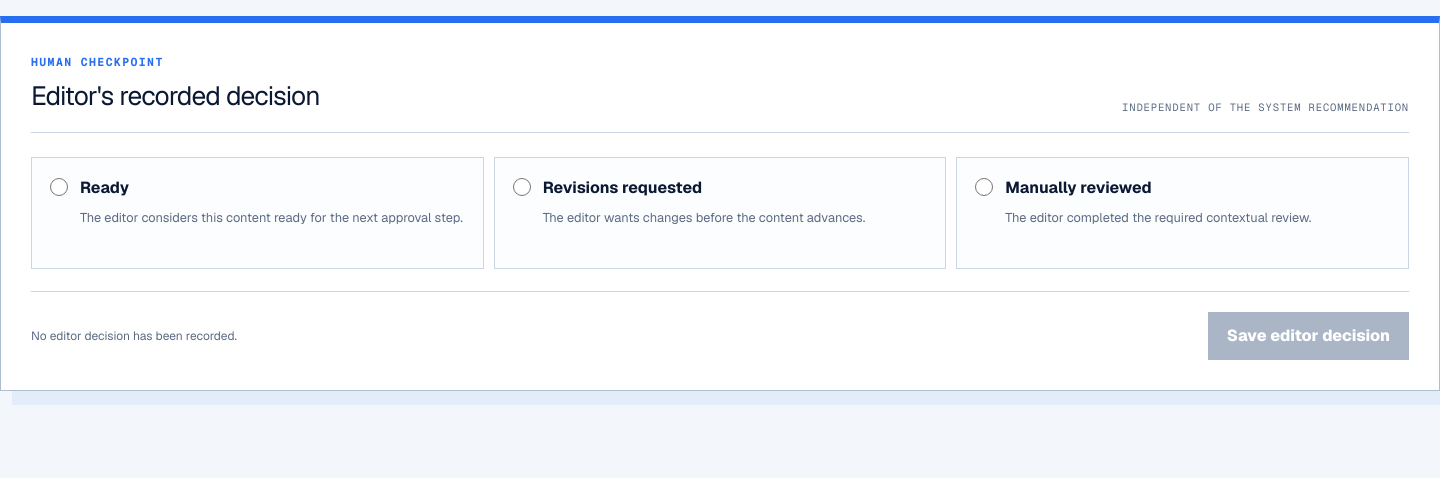
Test: actionable report UI › announces a generic decision save error
The image size is (1440, 478).
Click the radio button labelled "Ready" at (59, 187), box [50,178,68,196]
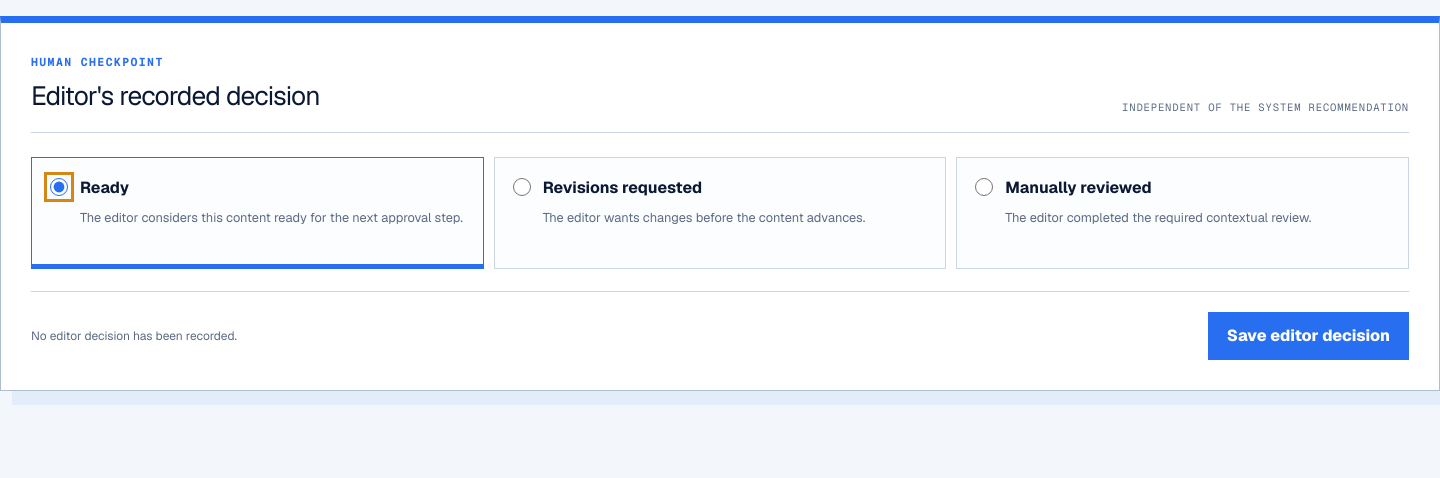
Click the button "Save editor decision" at (1308, 336), box [1208,312,1409,360]
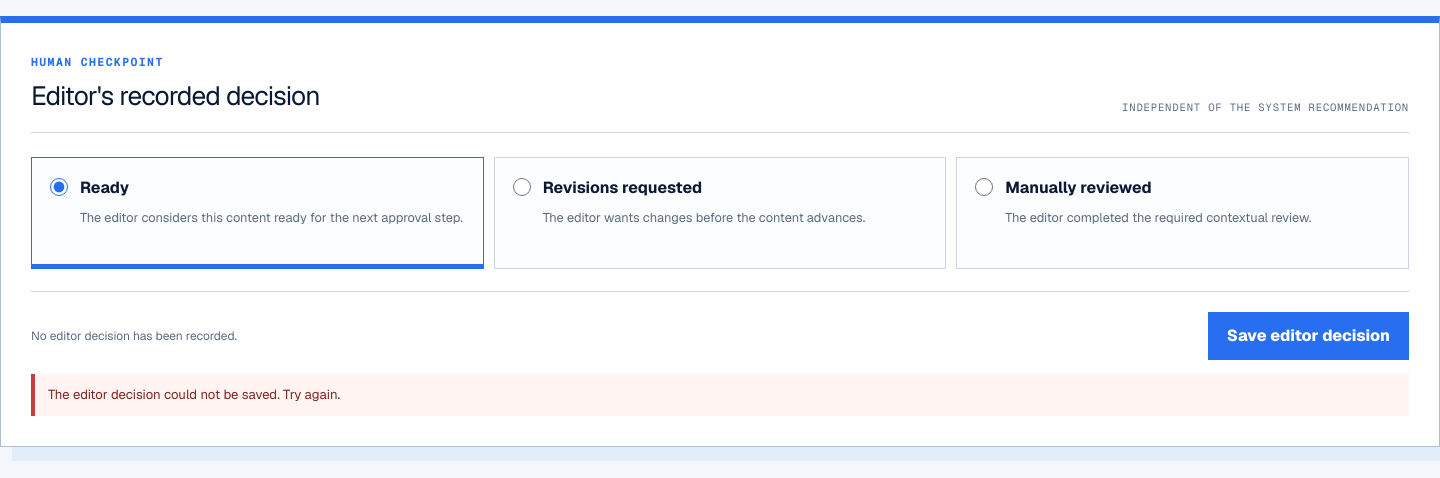
Expected: the message reads "The editor decision could not be saved. Try again.", [48,386,340,403]
